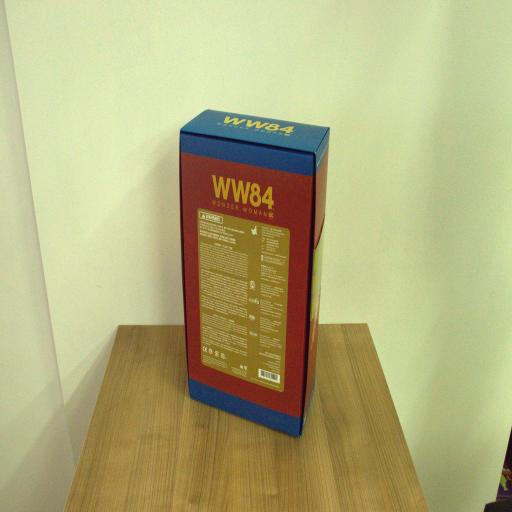WonderWoman: (178, 108, 331, 442)
